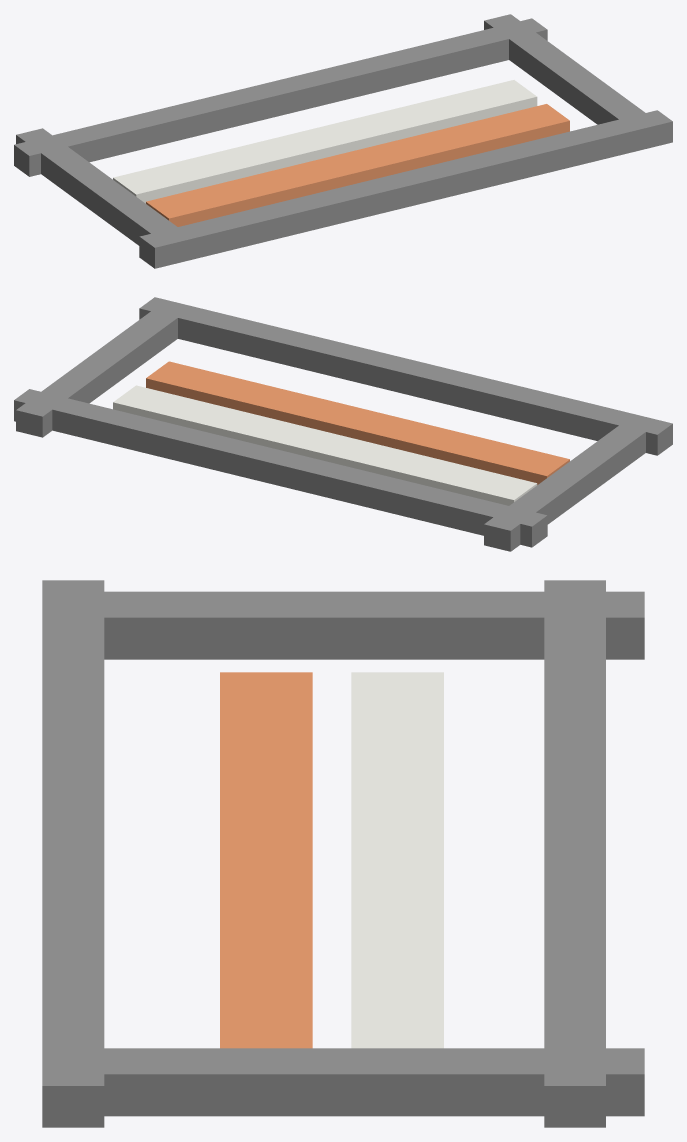
Rendered from road_generic_barricade.glb.
The picture shows the model from 3 angles, top to bottom: view 1: azimuth 30°, elevation 25°; view 2: azimuth 150°, elevation 25°; view 3: azimuth 270°, elevation 25°; orthographic projection. The views are drawn at different scales.
Parts seen in each view (by area): view 1: frame_top, frame_bottom, stripe_1, stripe_2, leg_r, leg_l; view 2: frame_bottom, frame_top, stripe_1, stripe_2, leg_l, leg_r; view 3: leg_r, leg_l, stripe_1, stripe_2, frame_top, frame_bottom.
Part boxes in pixels (x1,y1,x2,y2): frame_top: (139,110,672,268); frame_bottom: (14,18,547,176); stripe_1: (146,104,569,226); stripe_2: (113,80,537,203); leg_r: (484,14,661,151); leg_l: (16,128,193,265); frame_bottom: (14,389,547,547); frame_top: (139,297,672,455); stripe_1: (146,361,569,484); stripe_2: (113,385,537,505); leg_l: (484,418,660,551); leg_r: (16,300,191,437); leg_r: (42,1048,644,1116); leg_l: (43,591,644,659); stripe_1: (220,672,312,1048); stripe_2: (351,672,443,1048); frame_top: (42,580,104,1127); frame_bottom: (544,580,605,1127).
Size of the model in its own units: 1.55 by 0.09 by 0.78.
